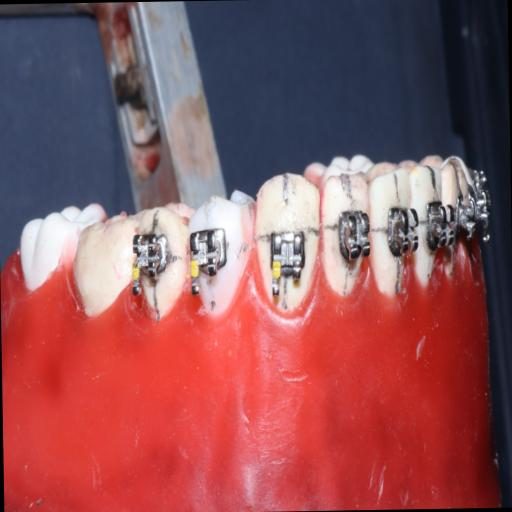incorrect_brace: (266, 222, 308, 298)
